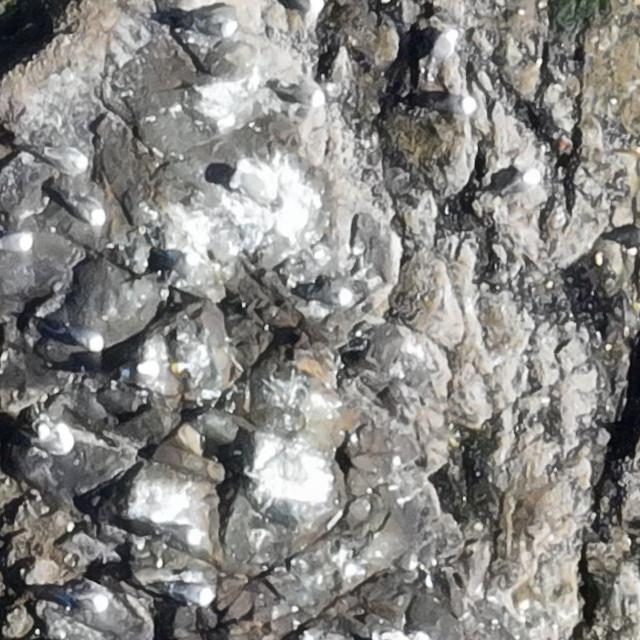umineko: (31, 145, 92, 174), (51, 191, 104, 222), (238, 155, 268, 206), (498, 166, 540, 198), (427, 29, 458, 72), (35, 423, 76, 455), (169, 249, 201, 287), (280, 84, 328, 108), (193, 19, 240, 41), (65, 590, 108, 614), (423, 97, 480, 115), (124, 360, 161, 386), (158, 525, 205, 545), (168, 585, 212, 606), (314, 287, 353, 309), (0, 232, 35, 252), (71, 328, 105, 348)
